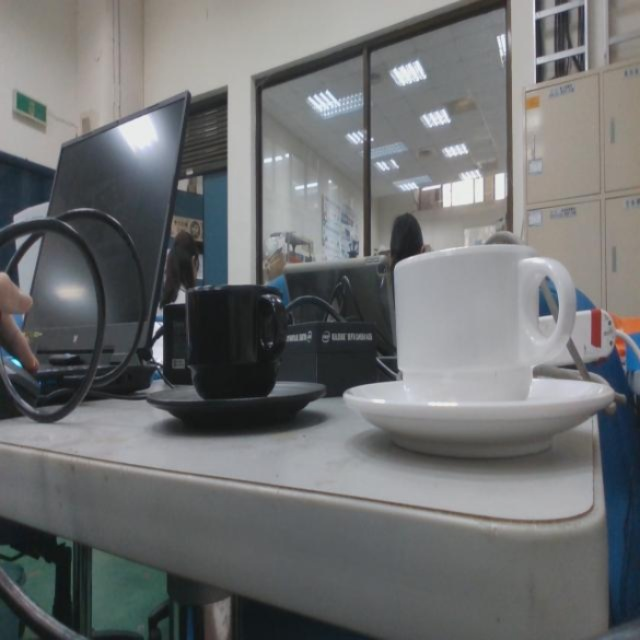black: (145, 279, 328, 432)
white: (340, 239, 617, 464)
